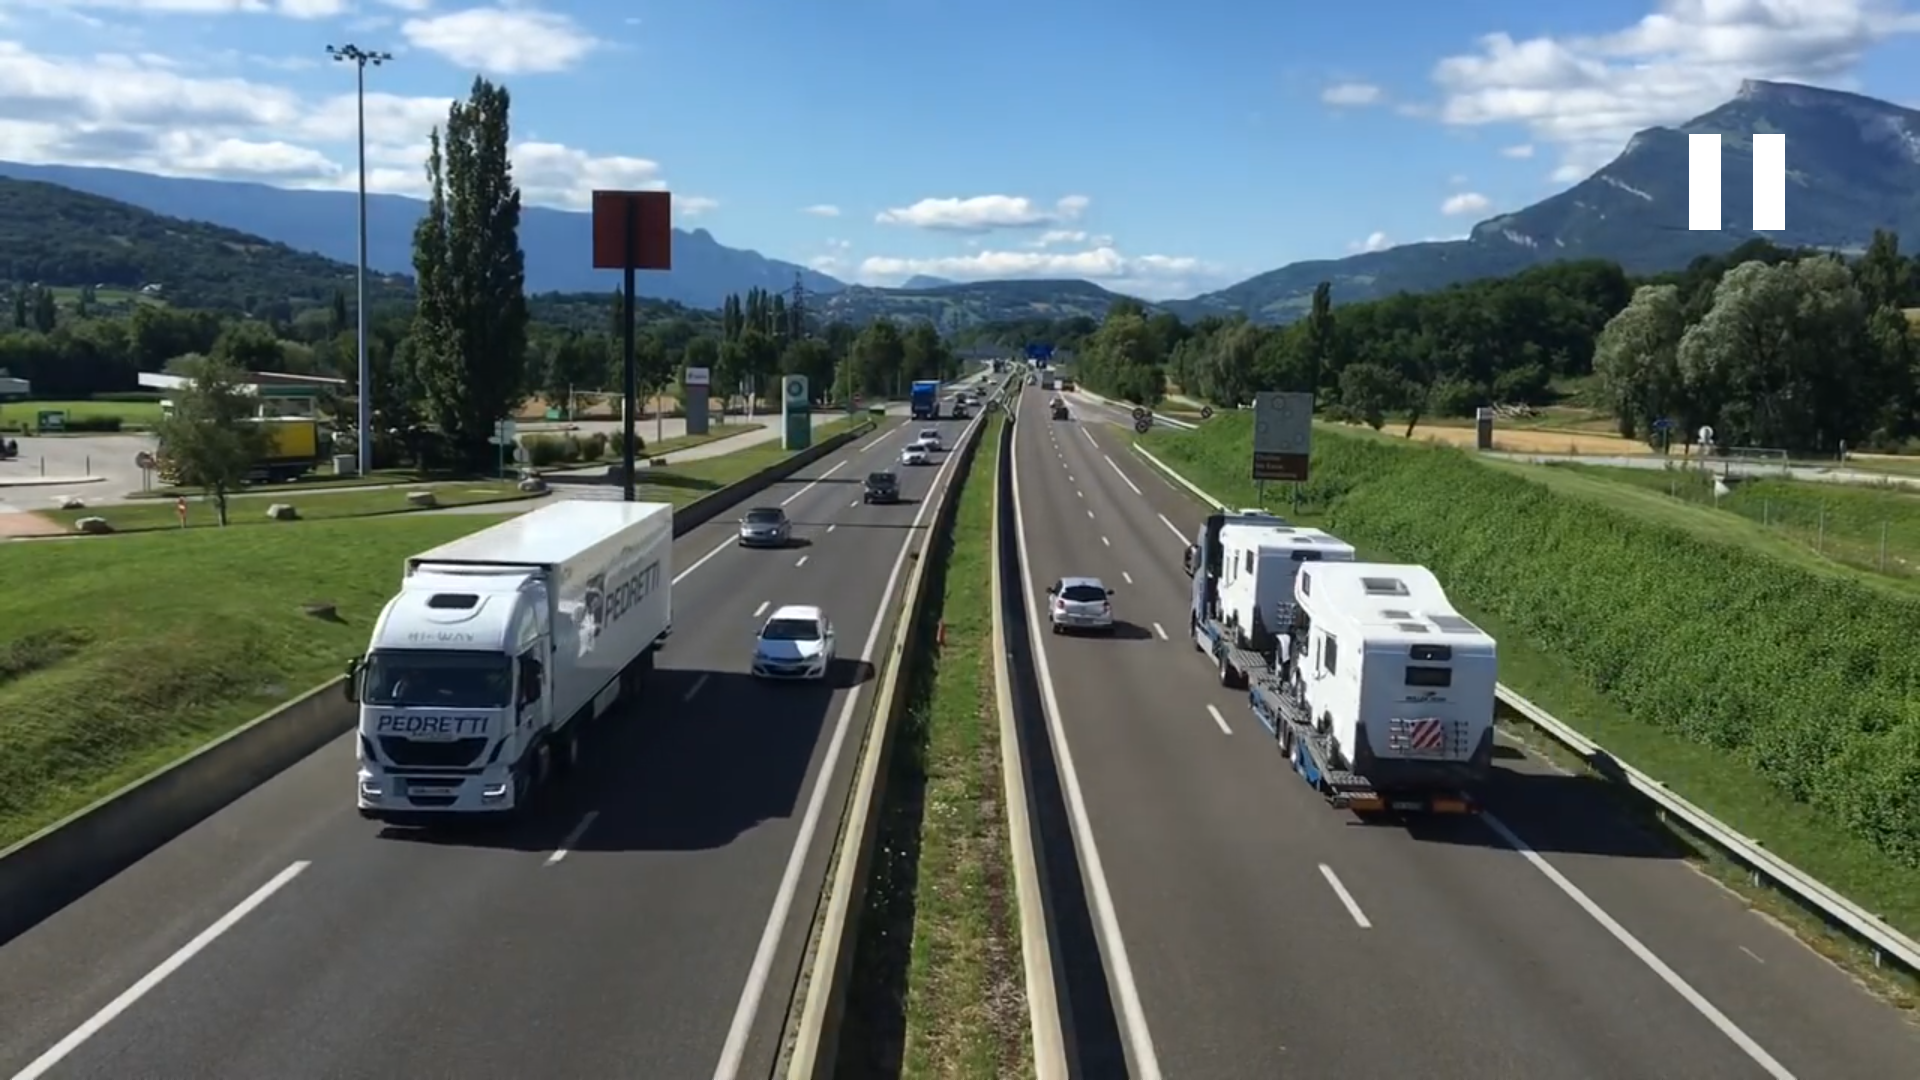HeavyVehicle: (338, 483, 682, 833), (1172, 505, 1511, 836), (910, 375, 944, 425)
LightVehicle: (742, 596, 848, 692), (1047, 571, 1116, 642), (740, 502, 795, 550), (862, 469, 902, 506)
